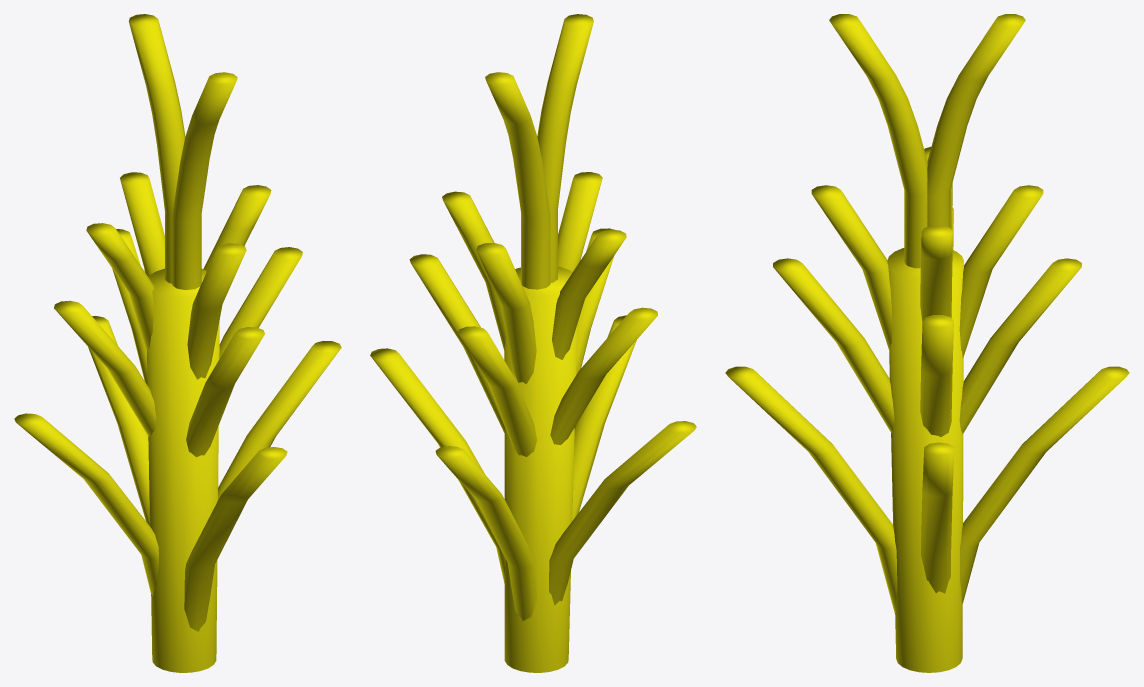
The model's file is l_drzewo_male_3.fbx.
3 views of the same model, side by side, from view 1: azimuth 30°, elevation 25°; view 2: azimuth 150°, elevation 25°; view 3: azimuth 270°, elevation 25° (orthographic). The views are drawn at different scales.
Visible parts, largest first — view 1: roslinka2; view 2: roslinka2; view 3: roslinka2.
Boxes of the visible parts, x1,y1,x2,y2 form: roslinka2: (14,14,341,672); roslinka2: (370,14,696,672); roslinka2: (725,14,1129,672).
Size of the model in its own units: 172 by 311 by 179.
